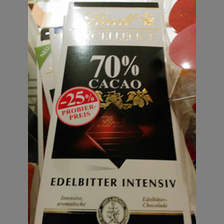chocolate: (43, 2, 188, 223)
